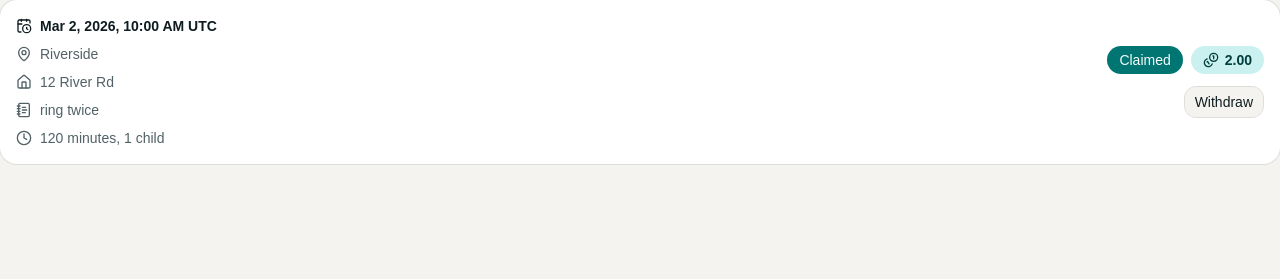
it: MyClaimsPage › explains a rejected withdraw
What coordinates should you click on to do the following:
click the button with aria-label "withdraw from the request in riverside"
I would click on:
 (1224, 102)
Its box is [1184,86,1264,118].
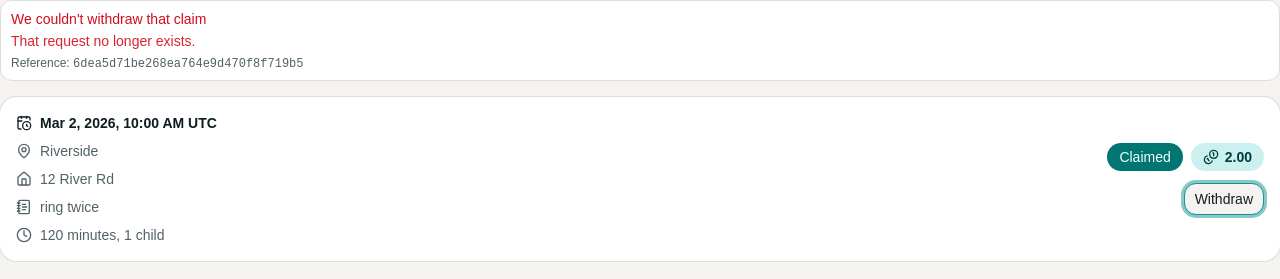
Expected: the message shows "no longer exists", [11,33,195,49]
